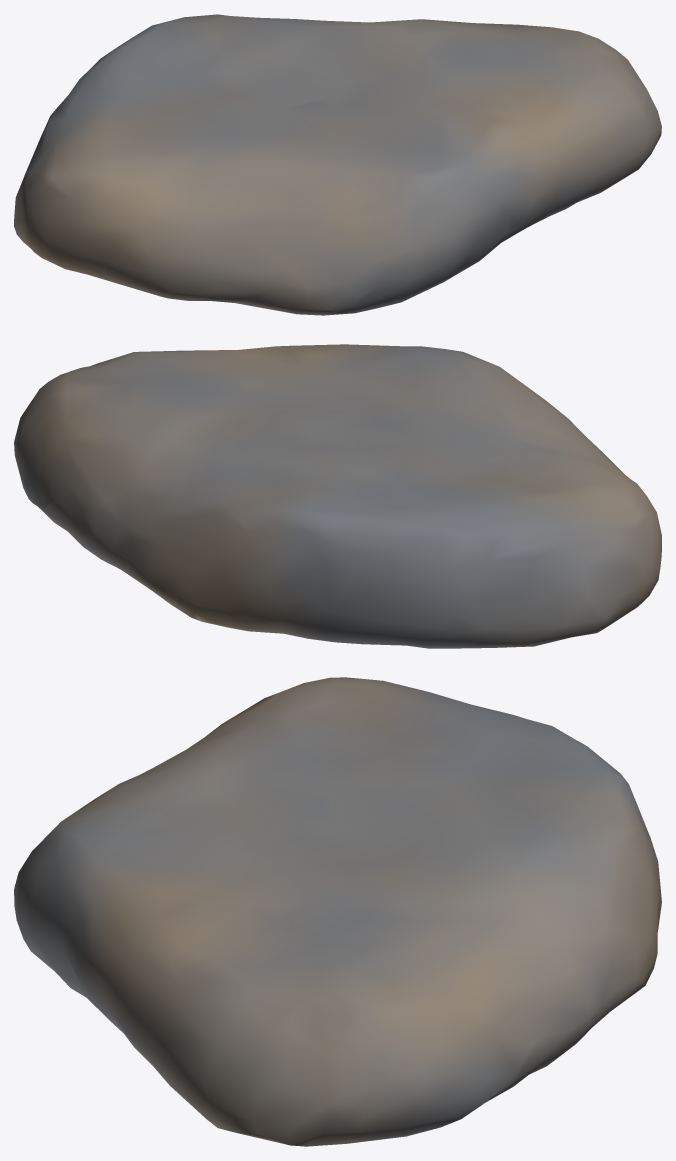
The model's file is rock2.glb.
3 renders of one model, top to bottom at view 1: azimuth 30°, elevation 25°; view 2: azimuth 150°, elevation 25°; view 3: azimuth 270°, elevation 25°, orthographic. The views are drawn at different scales.
Visible parts, largest first — view 1: body; view 2: body; view 3: body.
Part boxes in pixels (box(x1,y1,x2,y2)): body: box(14, 14, 661, 315); body: box(14, 344, 661, 648); body: box(14, 677, 661, 1146).
Bounding box in the file's own units: 1.8 × 0.3749 × 1.29.
